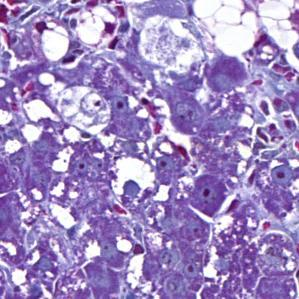ballooning: (189, 3, 295, 73), (54, 83, 116, 140), (66, 3, 118, 49), (36, 22, 71, 64)
